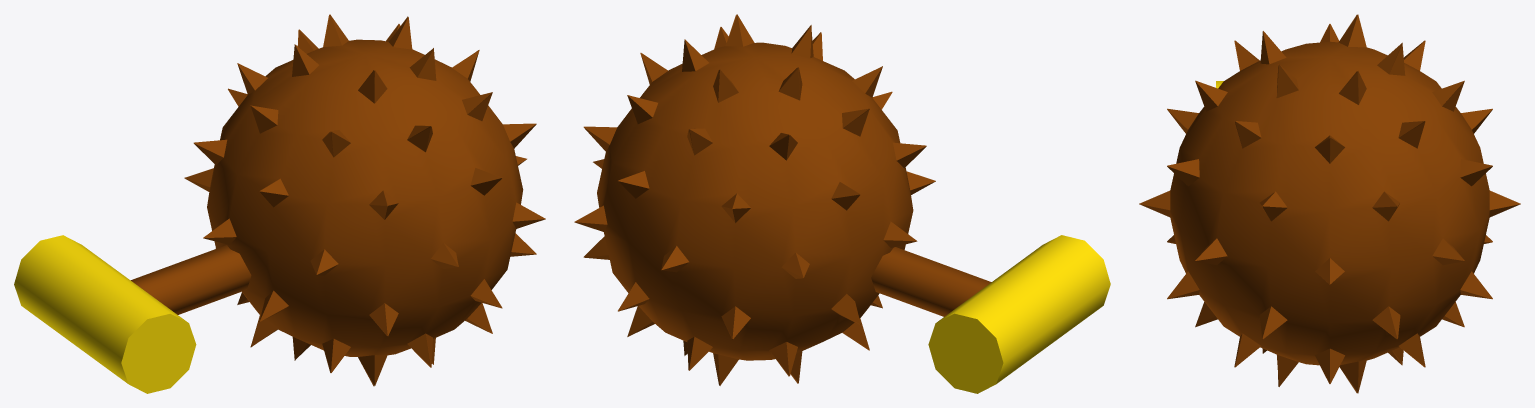
File: mace.fbx
3 views of the same model, side by side, from view 1: azimuth 30°, elevation 25°; view 2: azimuth 150°, elevation 25°; view 3: azimuth 270°, elevation 25° (orthographic).
Parts seen in each view (by area): view 1: REF:MACE02; view 2: REF:MACE02; view 3: REF:MACE02.
Boxes of the visible parts, bbox=[...] form: REF:MACE02: bbox=[14, 14, 545, 393]; REF:MACE02: bbox=[574, 14, 1110, 393]; REF:MACE02: bbox=[1139, 14, 1520, 393].
Size of the model in its own units: 174 by 114 by 122.
